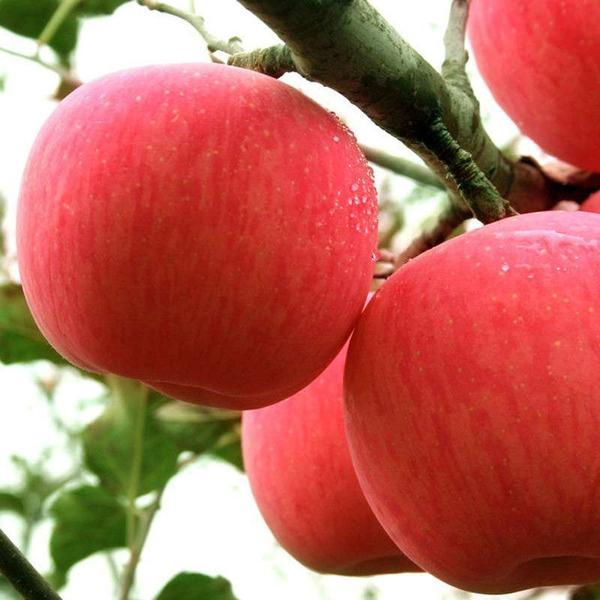apple: (51, 91, 598, 581), (12, 67, 380, 419), (276, 212, 589, 592), (240, 375, 398, 572)
